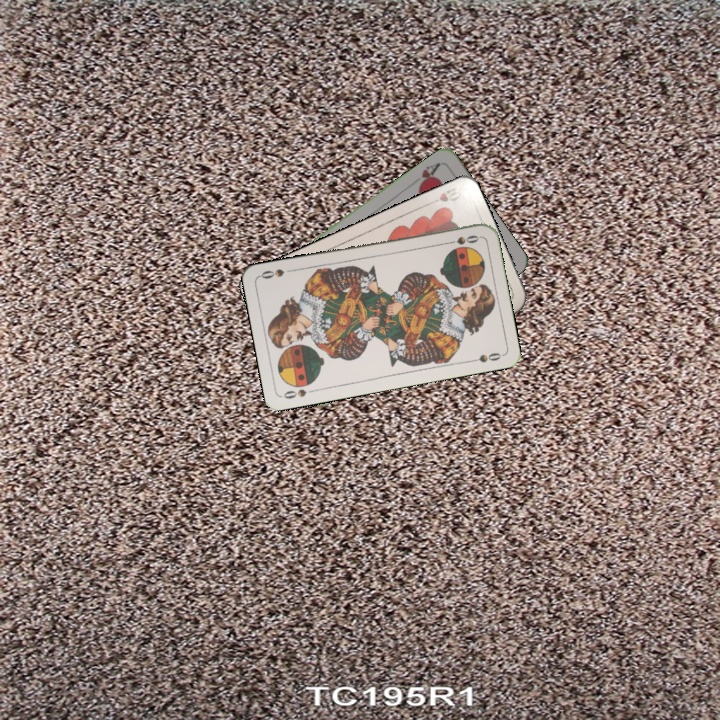H10: (425, 181, 464, 207)
HA: (408, 159, 443, 191)
SO: (442, 231, 482, 247), (279, 385, 319, 401)
